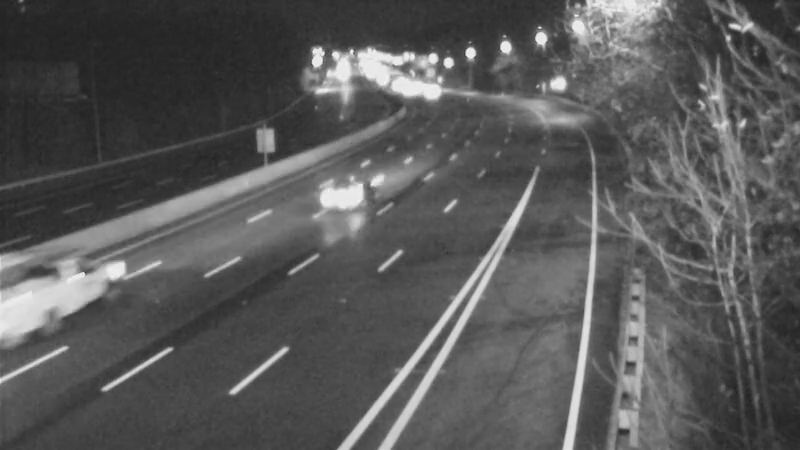vehicle: (315, 148, 395, 228), (6, 252, 86, 332), (407, 65, 457, 115)
